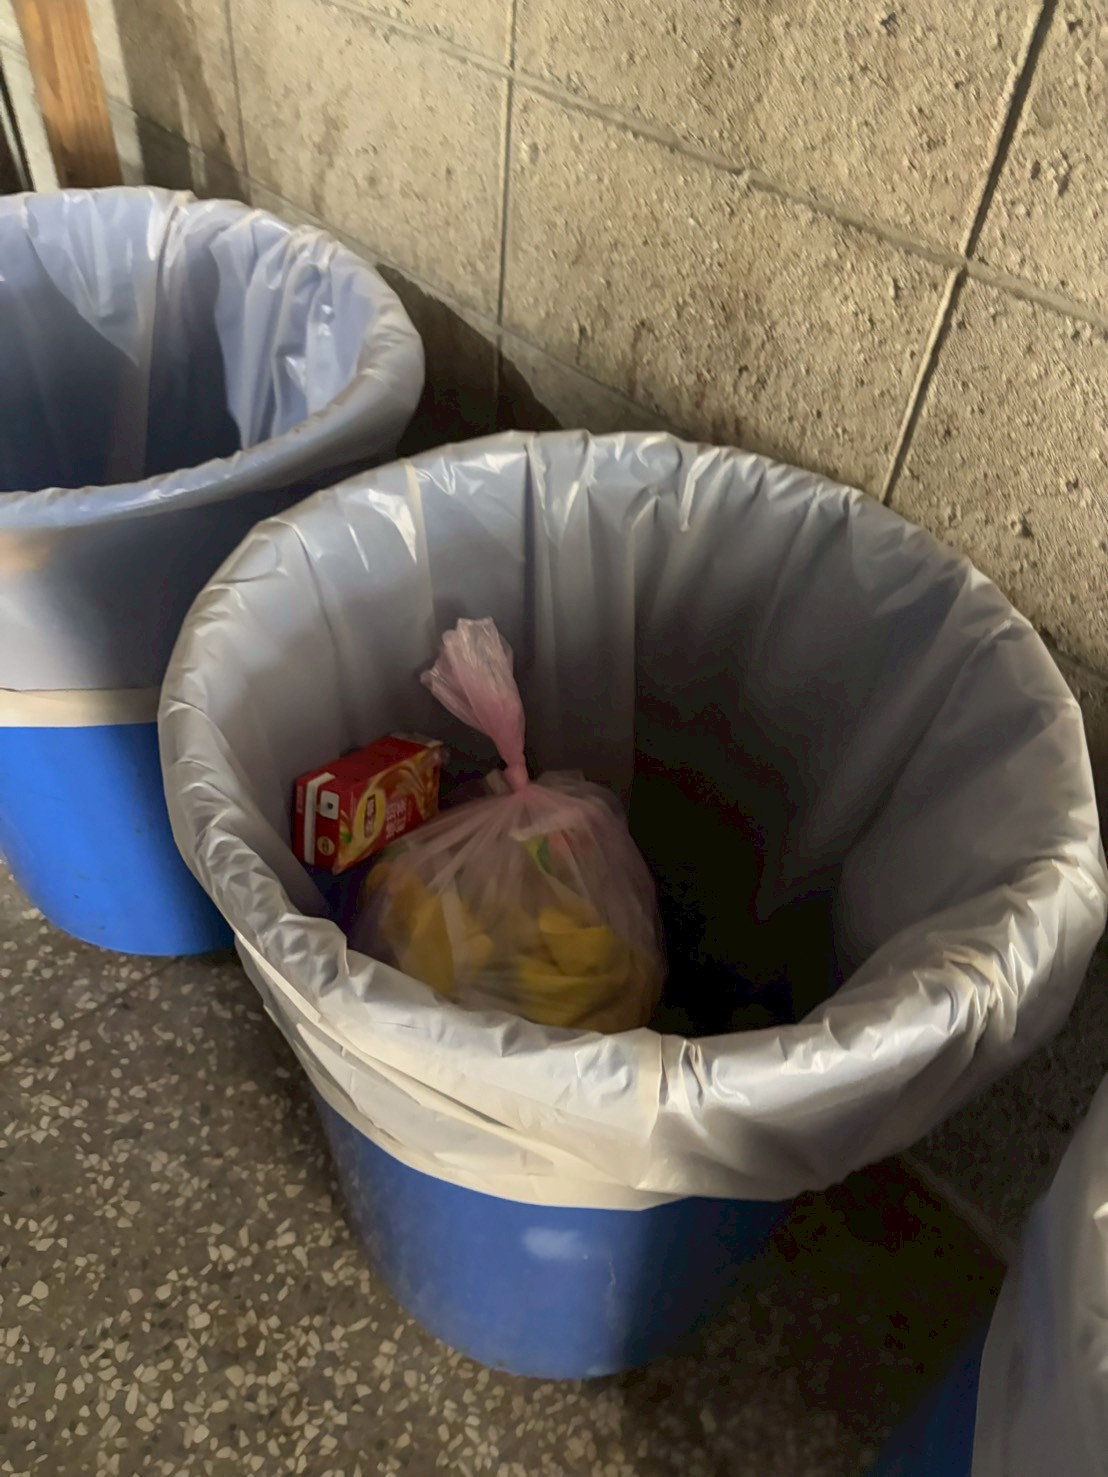normal_bin: (138, 419, 1108, 1408)
